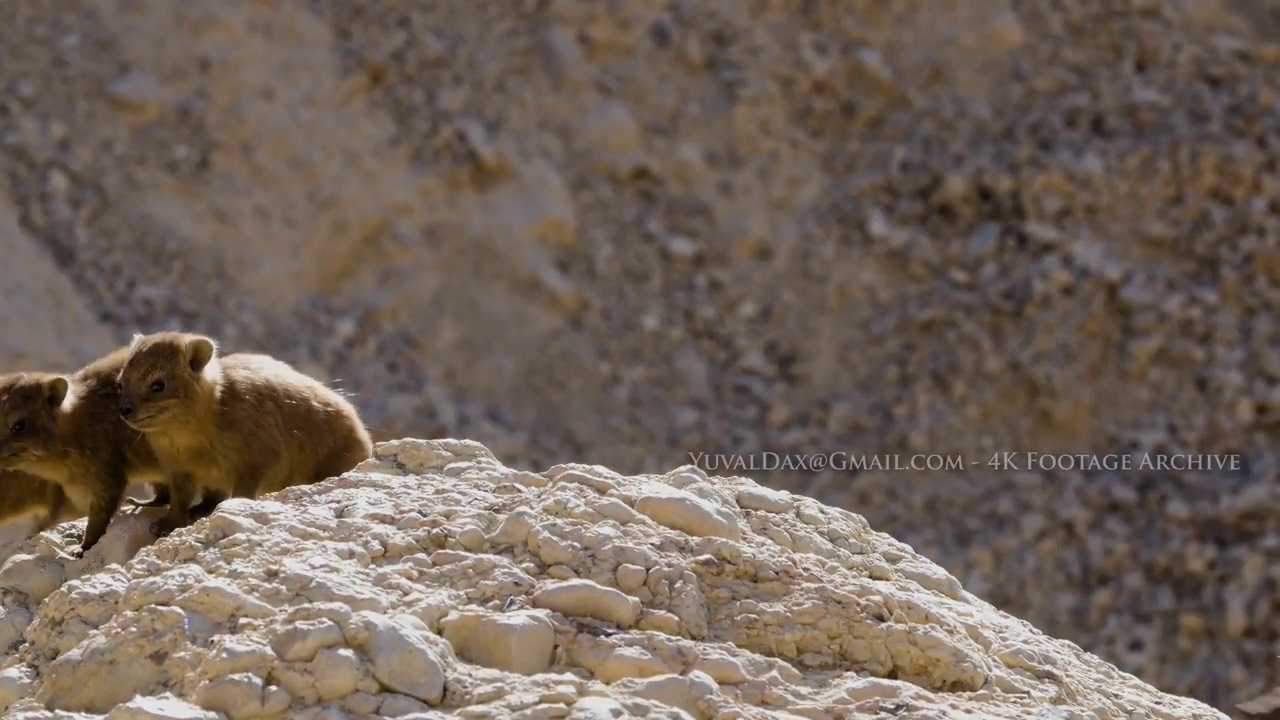Rock Hyrex: (110, 332, 374, 551), (1, 342, 141, 565)
